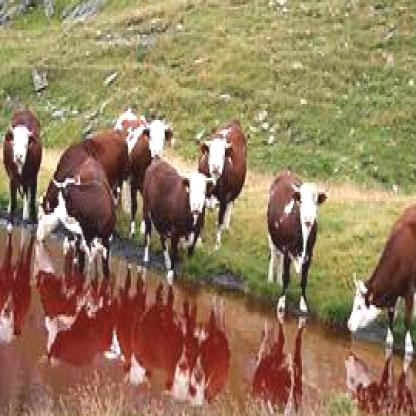cow: (345, 198, 415, 354), (34, 129, 126, 240), (266, 173, 326, 312), (145, 160, 214, 280), (116, 109, 174, 238), (51, 173, 115, 280), (197, 120, 247, 250), (3, 107, 43, 219)
